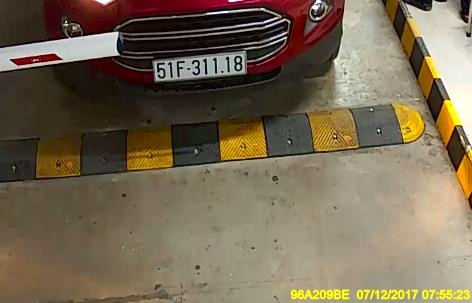plate: (152, 52, 248, 81)
